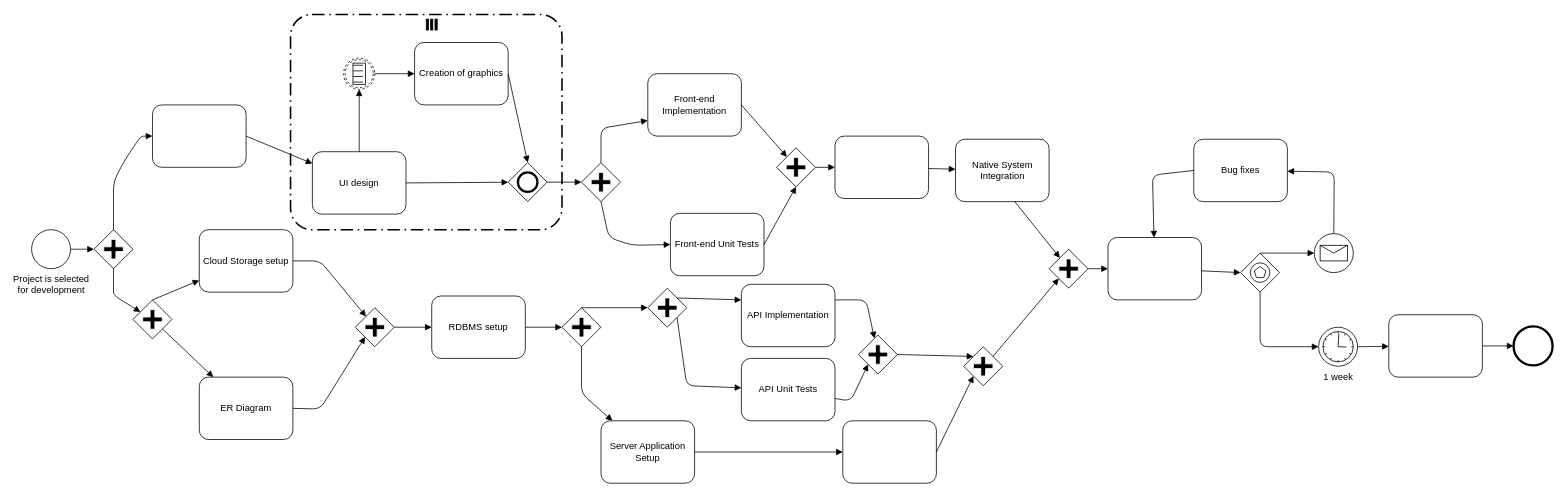
Image size: 1566x497. Some labels were removed from this diagram. The shapes that lost their labels are listed below. From the top down, each one's box as (x1, y1, x2, y2) in pixels, then its label:
(343, 57, 375, 89): The prototype of a component is created
(152, 104, 246, 167): UX design
(834, 135, 929, 199): Web App porting
(1107, 237, 1202, 300): Pubblication in Beta
(1314, 233, 1353, 273): A bug is reported
(1388, 314, 1482, 377): Official Release
(842, 420, 936, 483): Reverse Proxy Setup
